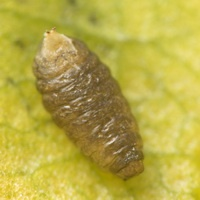insect: (33, 28, 143, 178)
